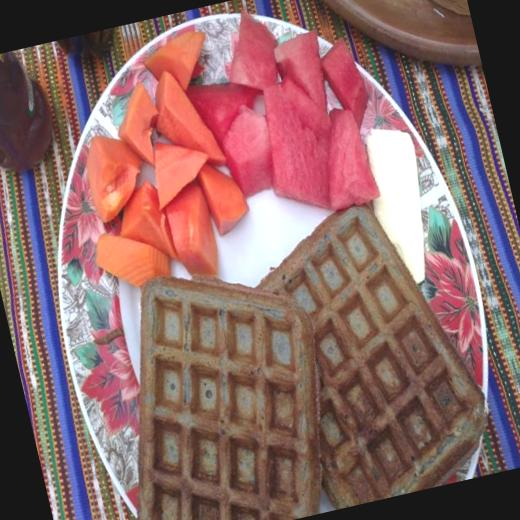Cherry: (170, 0, 393, 241)
